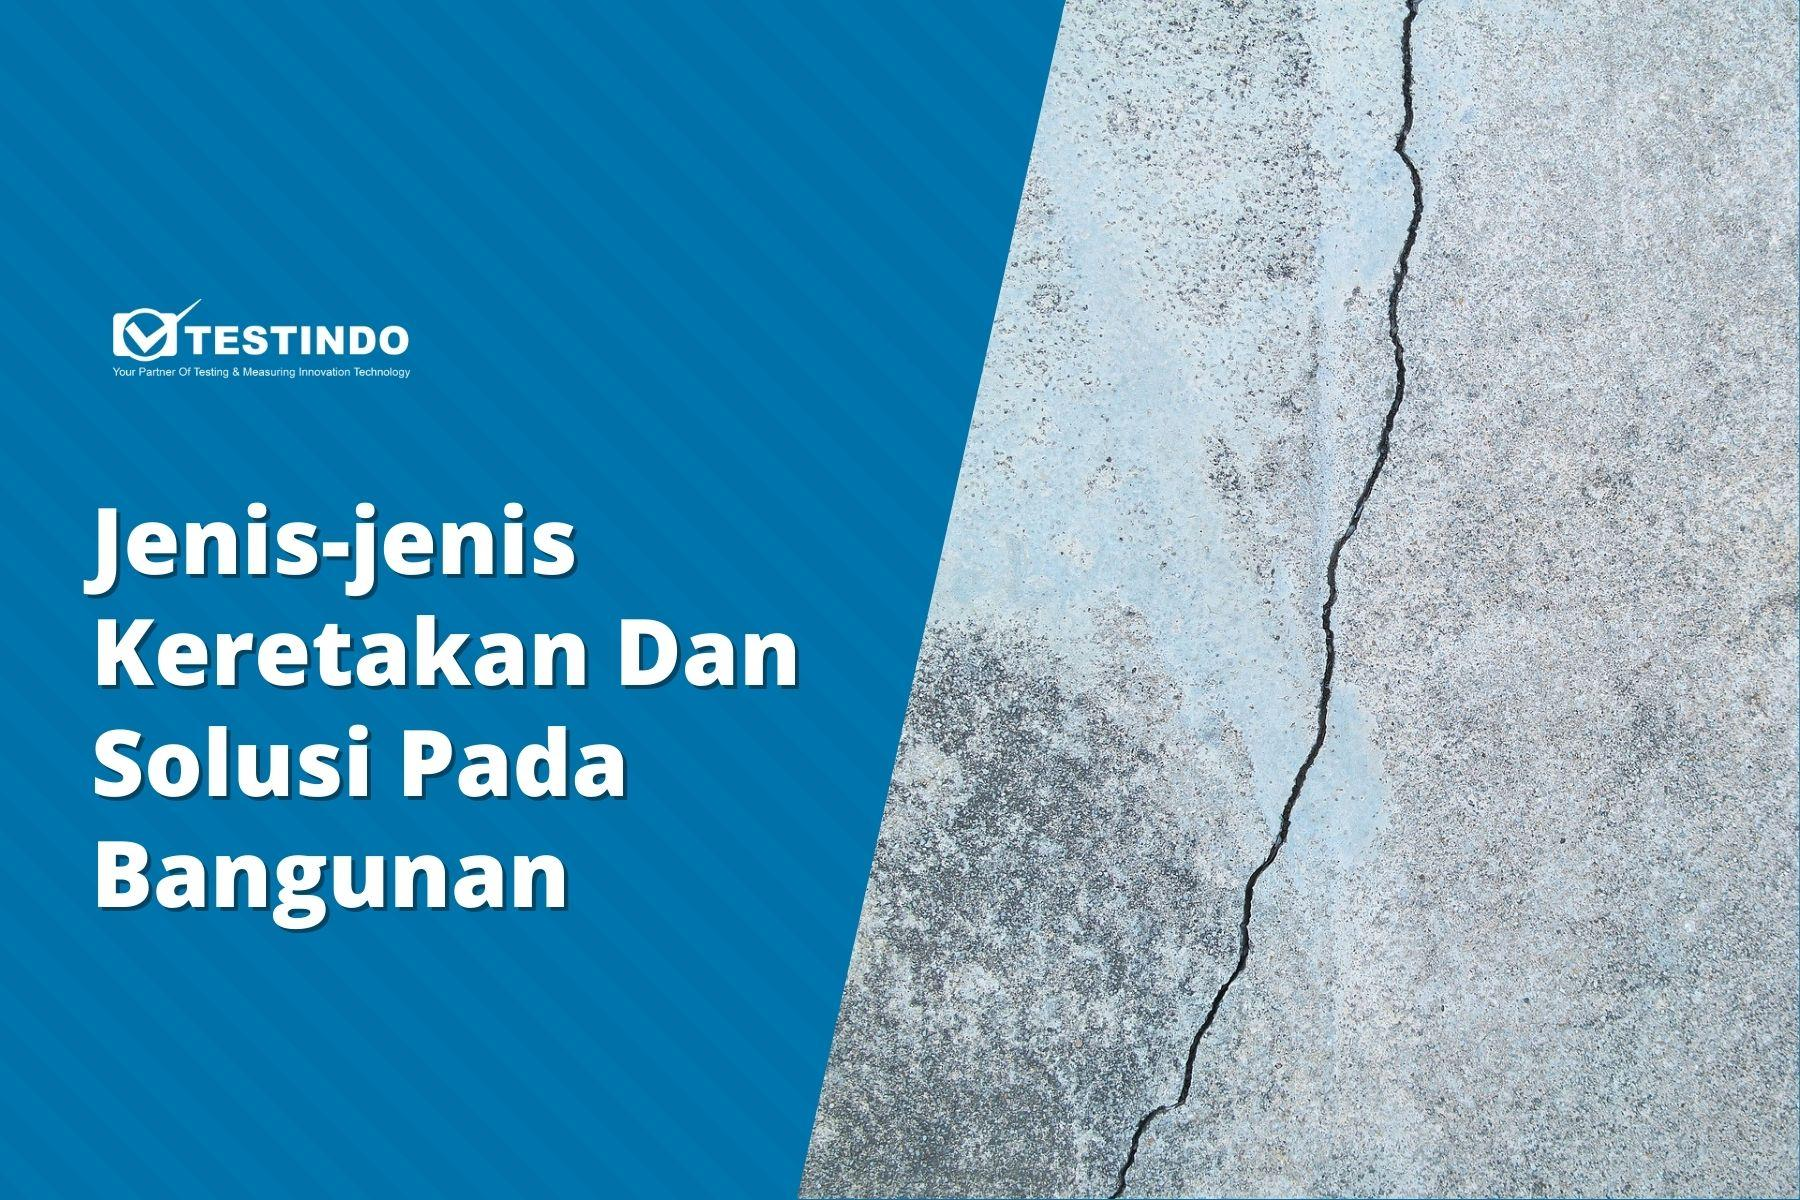Crack: (1086, 0, 1471, 1200)
